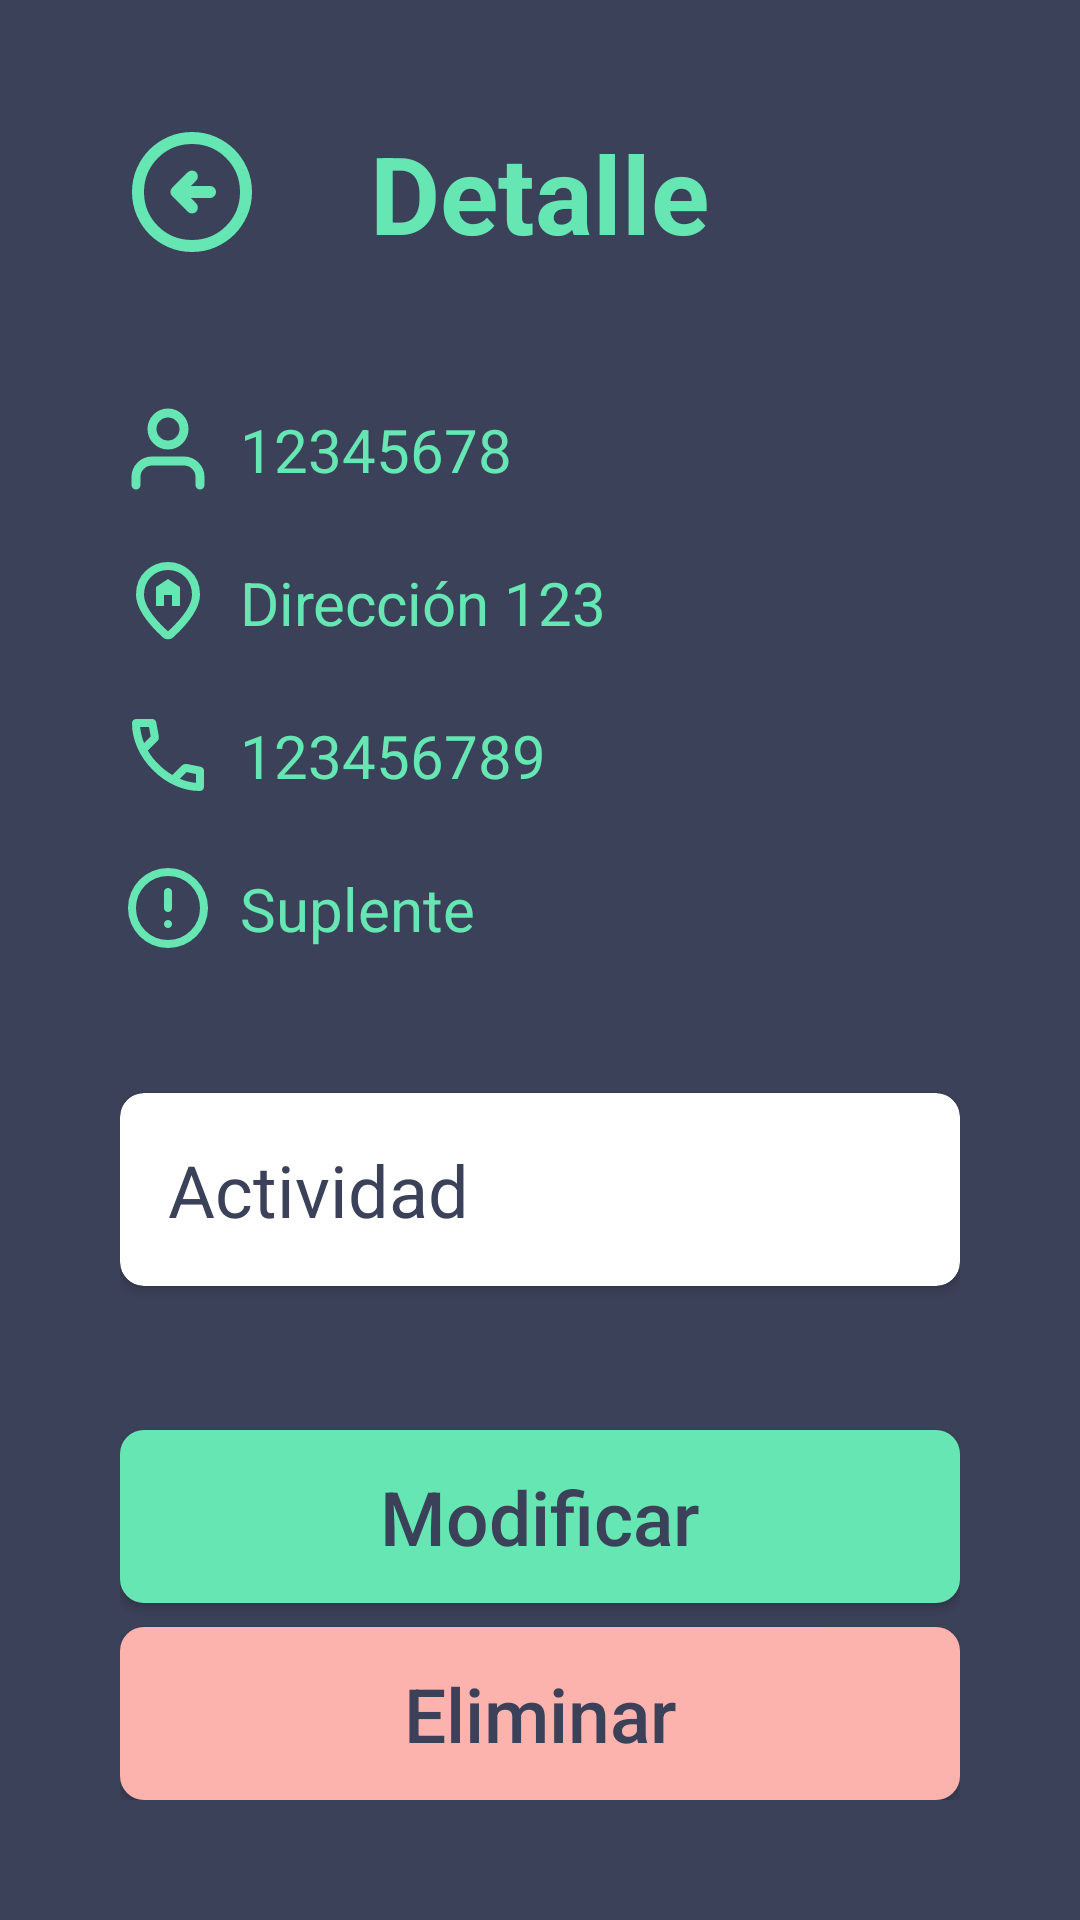

Screen size 1080×1920. Icon name, then its box in pixels as bbox=[x1, y1, x2, y2]:
atention: bbox=[128, 868, 208, 948]
home pin: bbox=[136, 562, 200, 640]
phone: bbox=[132, 719, 204, 791]
user: bbox=[131, 408, 205, 490]
